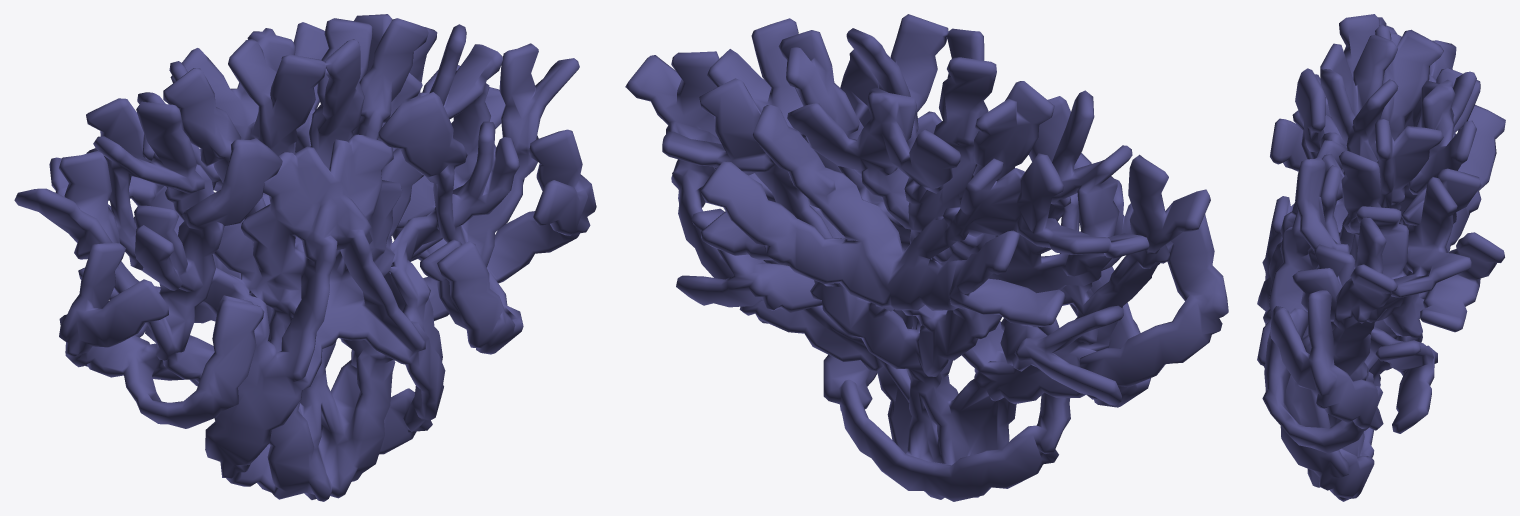
The picture shows the model from 3 angles, left to right: view 1: azimuth 30°, elevation 25°; view 2: azimuth 150°, elevation 25°; view 3: azimuth 270°, elevation 25°; orthographic projection. The views are drawn at different scales.
Visible parts, largest first — view 1: BRAIN.004; view 2: BRAIN.004; view 3: BRAIN.004.
Boxes of the visible parts, x1,y1,x2,y2 form: BRAIN.004: (14, 14, 596, 501); BRAIN.004: (625, 14, 1228, 501); BRAIN.004: (1257, 14, 1505, 501).
Bounding box in the file's own units: 8.71 × 6.83 × 3.56.
